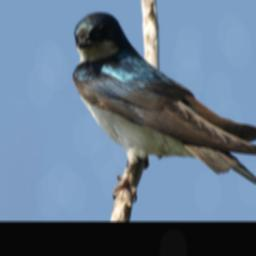Swallow: (72, 12, 256, 206)
